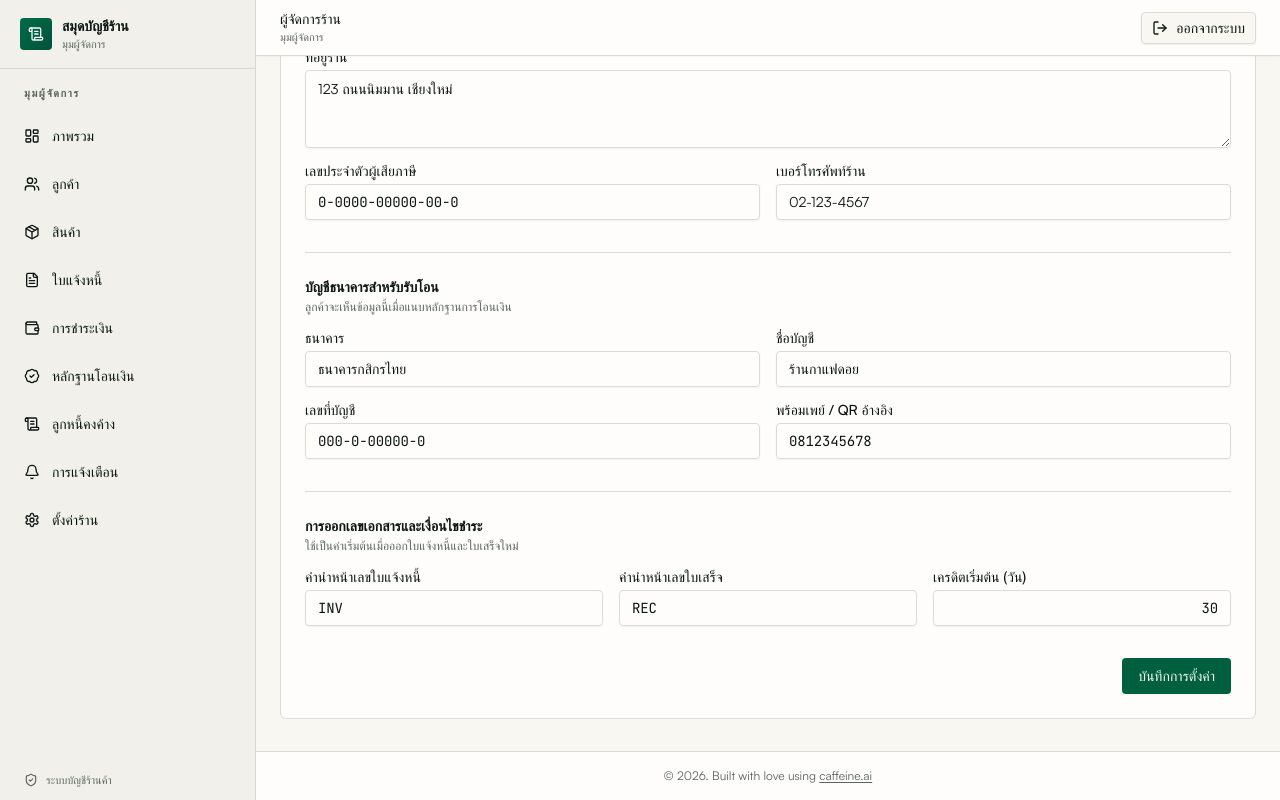
Test: SettingsPage › shows a success message after the settings are saved
The width and height of the screenshot is (1280, 800).
(page scrolled)
Click the button with test id "settings.submit_button" at (1177,676), box x1=1122 y1=658 x2=1231 y2=694
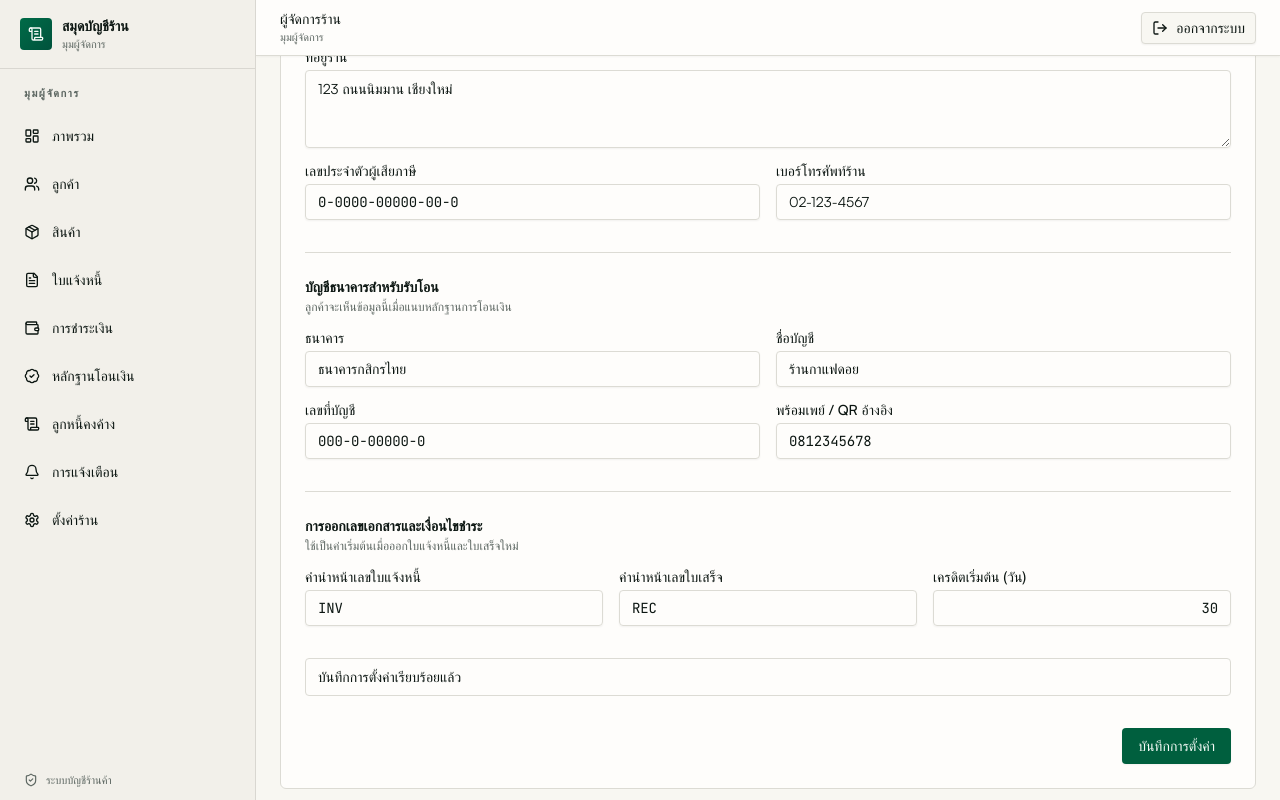
Now the text "บันทึกการตั้งค่าเรียบร้อยแล้ว" is shown, box x1=305 y1=658 x2=1231 y2=696
